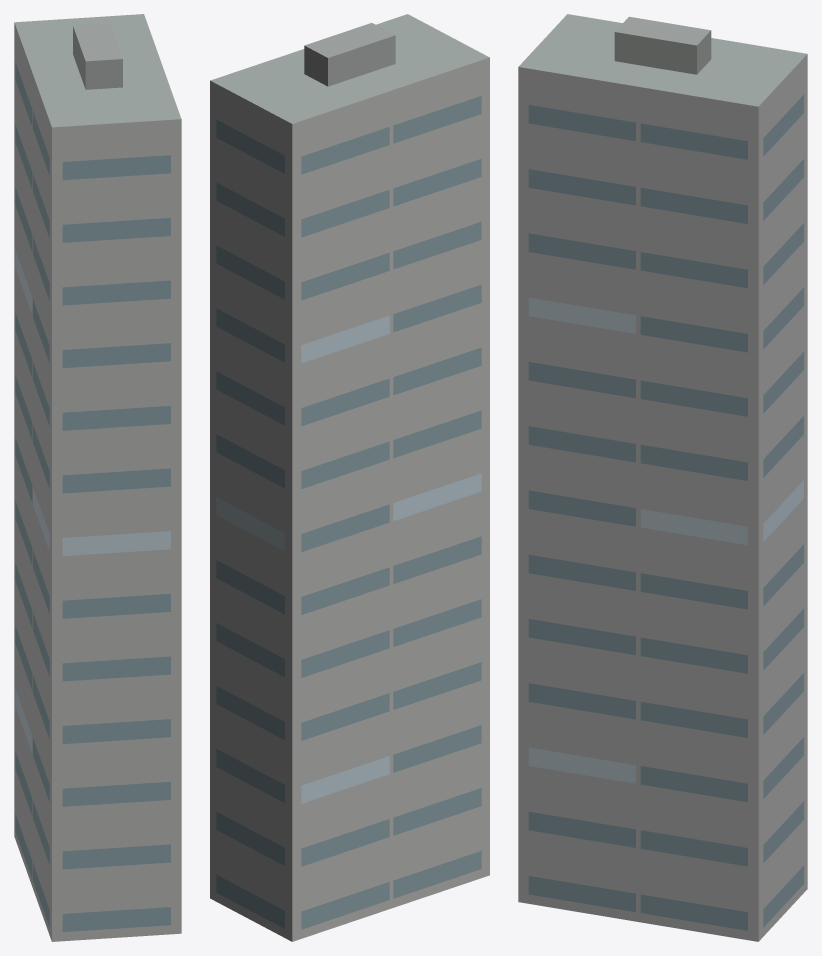
Rendered from fallback-jamsil-els-171.glb.
3 views of the same model, side by side, from view 1: azimuth 30°, elevation 25°; view 2: azimuth 150°, elevation 25°; view 3: azimuth 270°, elevation 25° (orthographic). The views are drawn at different scales.
Visible parts, largest first — view 1: fallback-jamsil-els-171; view 2: fallback-jamsil-els-171; view 3: fallback-jamsil-els-171.
Part boxes in pixels (bbox=[...]): fallback-jamsil-els-171: bbox=[14, 14, 181, 941]; fallback-jamsil-els-171: bbox=[210, 14, 489, 941]; fallback-jamsil-els-171: bbox=[518, 14, 807, 941].
Bounding box in the file's own units: 16.34 × 71 × 21.53.
